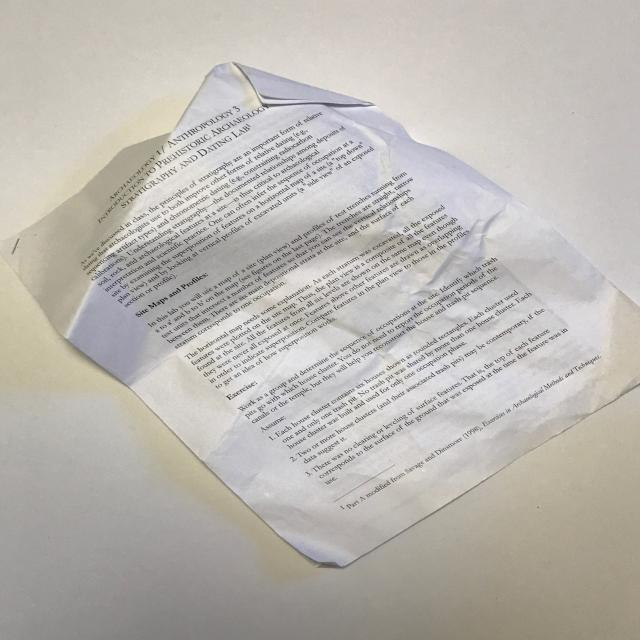paper: (1, 61, 640, 566)
